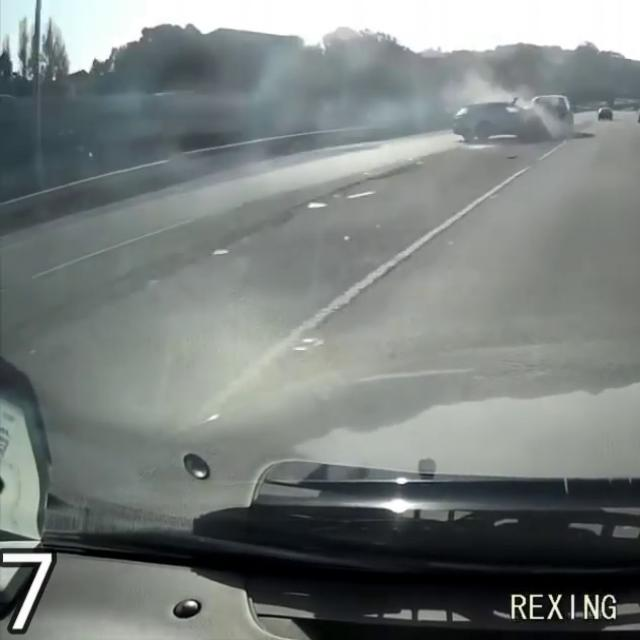accident: (441, 90, 580, 152)
